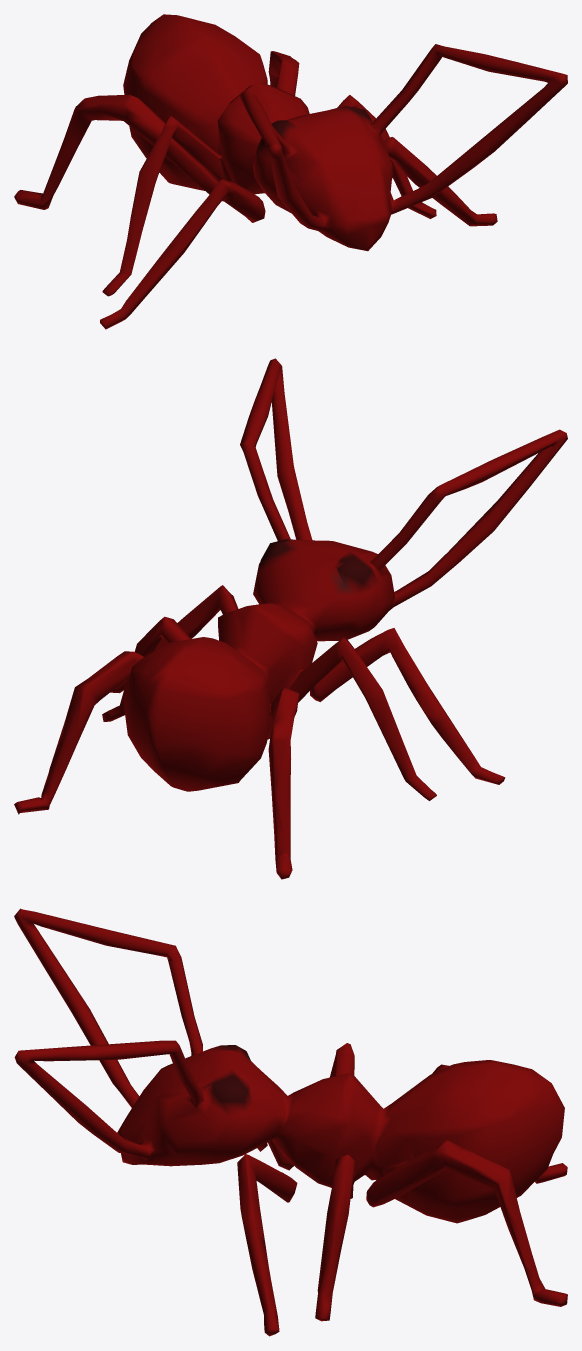
The model's file is gen3d-red-ant-lod0.glb.
The picture shows the model from 3 angles, top to bottom: view 1: azimuth 30°, elevation 25°; view 2: azimuth 150°, elevation 25°; view 3: azimuth 270°, elevation 25°; orthographic projection.
Visible parts, largest first — view 1: part_0; view 2: part_0; view 3: part_0.
Boxes of the visible parts, bbox=[...] form: part_0: bbox=[14, 14, 567, 329]; part_0: bbox=[14, 358, 567, 879]; part_0: bbox=[14, 908, 567, 1336].
Size of the model in its own units: 1.63 by 0.9996 by 1.91.
